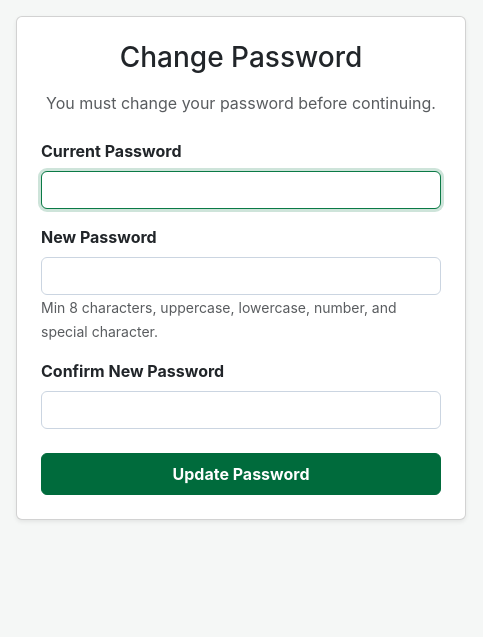
it: ChangePassword Component › should require matching passwords
Type "OldPass123!" into the password field labelled "Current Password" at (241, 190), box [41,171,441,209]
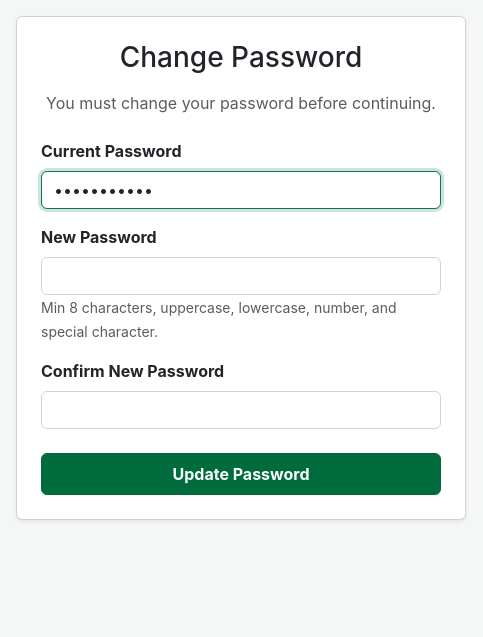
Type "NewPass123!@" into the password field labelled "New Password" at (241, 276), box [41,257,441,295]
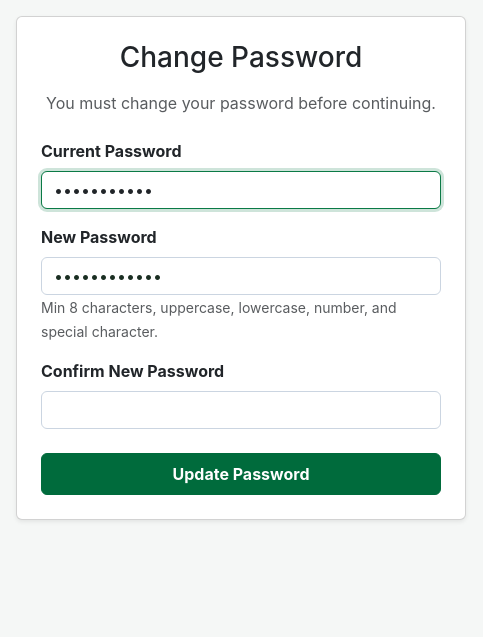
Type "DifferentPass!" into the password field labelled "Confirm New Password" at (241, 410), box [41,391,441,429]
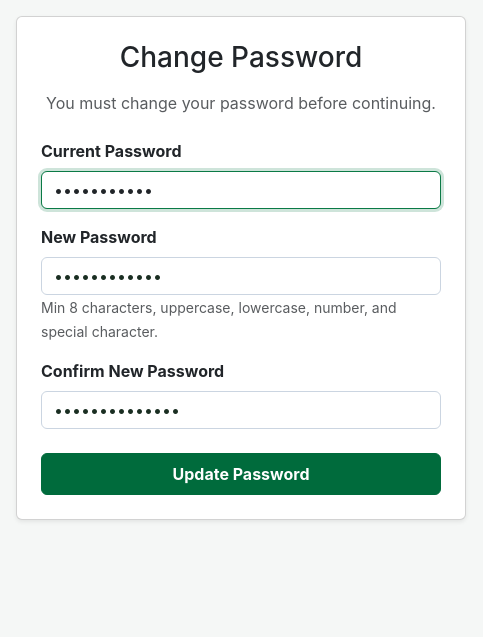
Click the button "Update Password" at (241, 474), box [41,453,441,495]
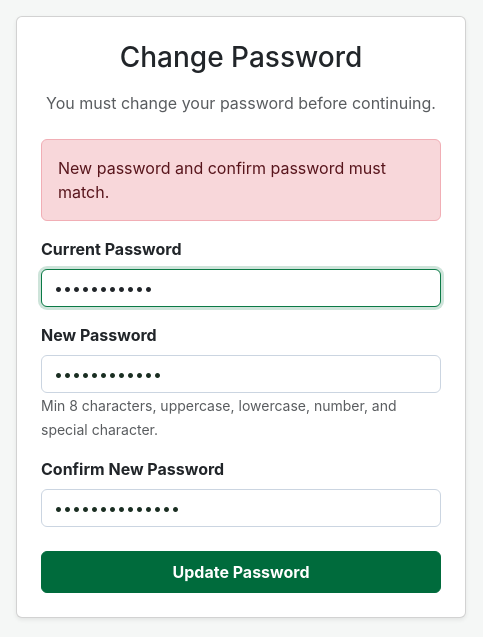
Check: the text "New password and confirm password must match." is shown, box [41,139,441,221]
